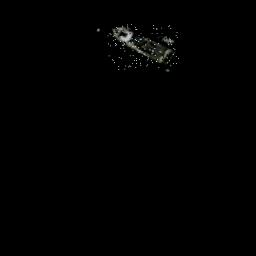boat: (106, 21, 178, 70)
